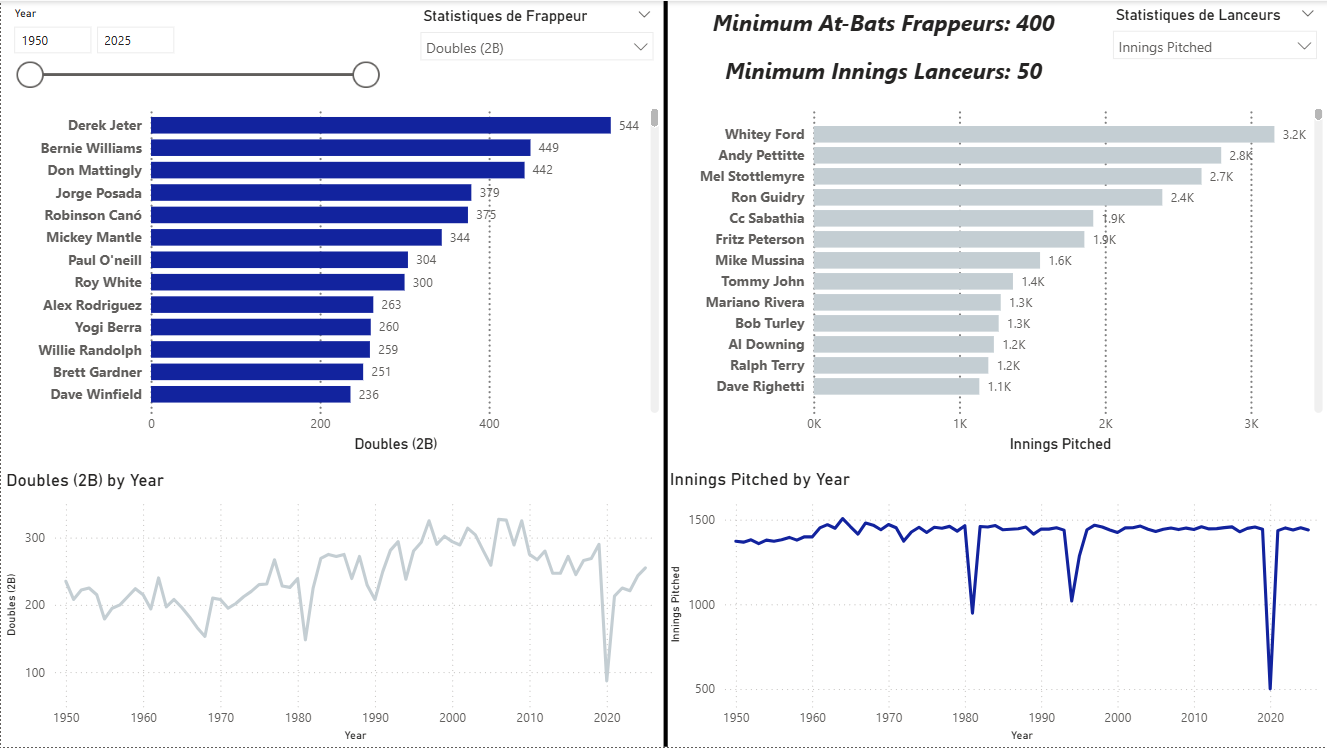

This screenshot's page, from the dashboard's own definition file:
{"tool":"powerbi","page":{"name":"Statistiques Leaders - Régulière","canvas":[1280,720],"ordinal":1},"visuals":[{"type":"slicer","fields":{"Values":["date_dim.Date.Variation.Date Hierarchy.Year"]},"box":[0,0,373.8,90.7],"z":0},{"type":"slicer","fields":{"Values":["Statistiques de Frappeur.Statistiques de Frappeur"]},"box":[394.7,1.4,245.5,90.7],"z":1000},{"type":"barChart","fields":{"Y":["_Measures.Total Doubles"],"Category":["dim_players.player_name"]},"box":[0,90.7,640.1,350.1],"z":2000},{"type":"lineChart","fields":{"Y":["_Measures.Total Doubles"],"Category":["date_dim.Date.Variation.Date Hierarchy.Year"]},"box":[0,451.9,640.1,267.8],"z":3000},{"type":"slicer","fields":{"Values":["Statistiques de Lanceurs.Statistiques de Lanceurs"]},"box":[1062.7,0,217.6,90.7],"z":4000},{"type":"barChart","fields":{"Y":["_Measures.Total Innings Pitched"],"Category":["dim_players.player_name"]},"box":[640.1,90.7,640.1,350.1],"z":5000},{"type":"lineChart","fields":{"Y":["_Measures.Total Innings Pitched"],"Category":["date_dim.Date.Variation.Date Hierarchy.Year"]},"box":[640.6,450.6,639.4,269.2],"z":6000},{"type":"textbox","box":[640.1,1.4,422.6,89.3],"z":7000},{"type":"shape","box":[612.6,0,57.2,719.8],"z":8000}]}

Visuals, with their boxes in screenshot pixels (x1, y1, x2, y2), scaled from the page's 1280x720 canvas onto the 1327x748 screenshot:
slicer - date_dim.Date.Variation.Date Hierarchy.Year: <bbox>0, 0, 388, 94</bbox>
slicer - Statistiques de Frappeur.Statistiques de Frappeur: <bbox>409, 1, 664, 96</bbox>
barChart - _Measures.Total Doubles x dim_players.player_name: <bbox>0, 94, 664, 458</bbox>
lineChart - _Measures.Total Doubles x date_dim.Date.Variation.Date Hierarchy.Year: <bbox>0, 469, 664, 747</bbox>
slicer - Statistiques de Lanceurs.Statistiques de Lanceurs: <bbox>1102, 0, 1326, 94</bbox>
barChart - _Measures.Total Innings Pitched x dim_players.player_name: <bbox>664, 94, 1326, 458</bbox>
lineChart - _Measures.Total Innings Pitched x date_dim.Date.Variation.Date Hierarchy.Year: <bbox>664, 468, 1326, 747</bbox>
textbox: <bbox>664, 1, 1102, 94</bbox>
shape: <bbox>635, 0, 694, 747</bbox>
